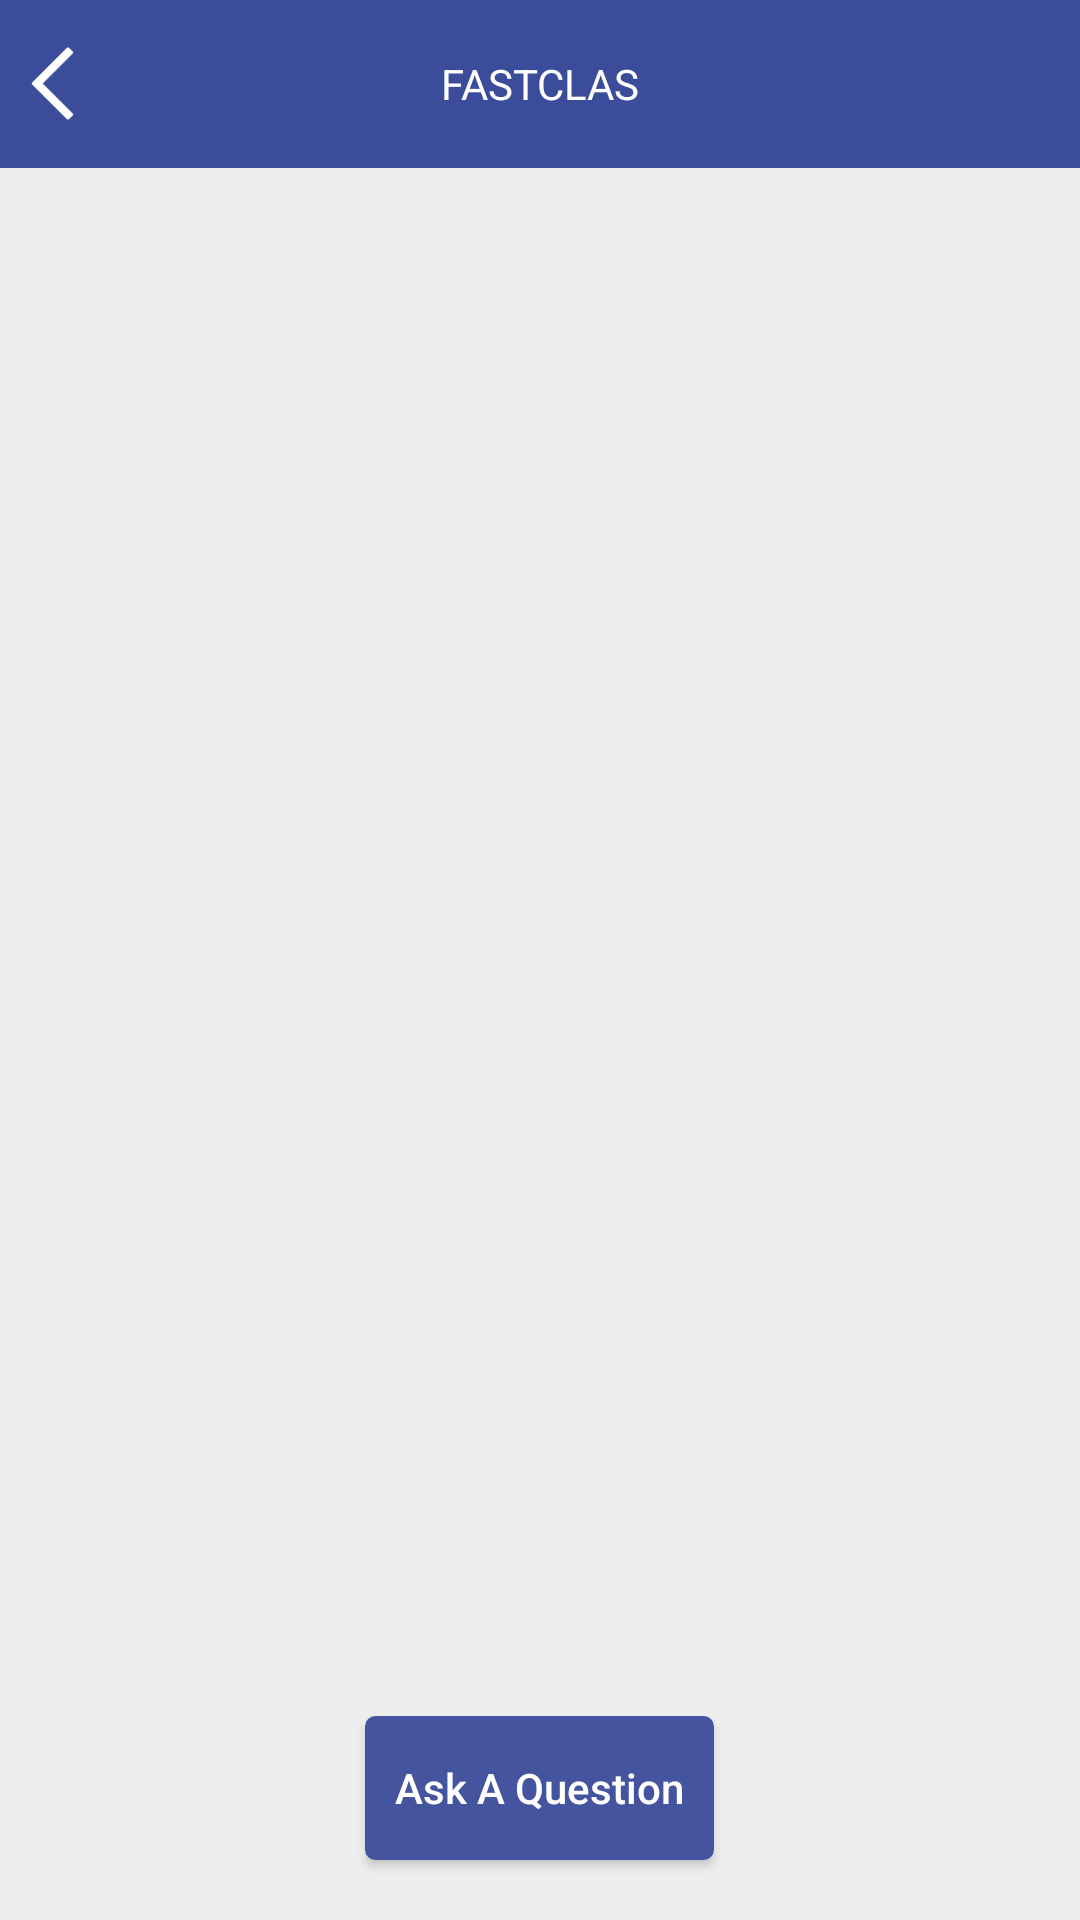

Icons on this 1080x1920 Android screen, each with the point to tap as [x,y]:
back: [52,83]
